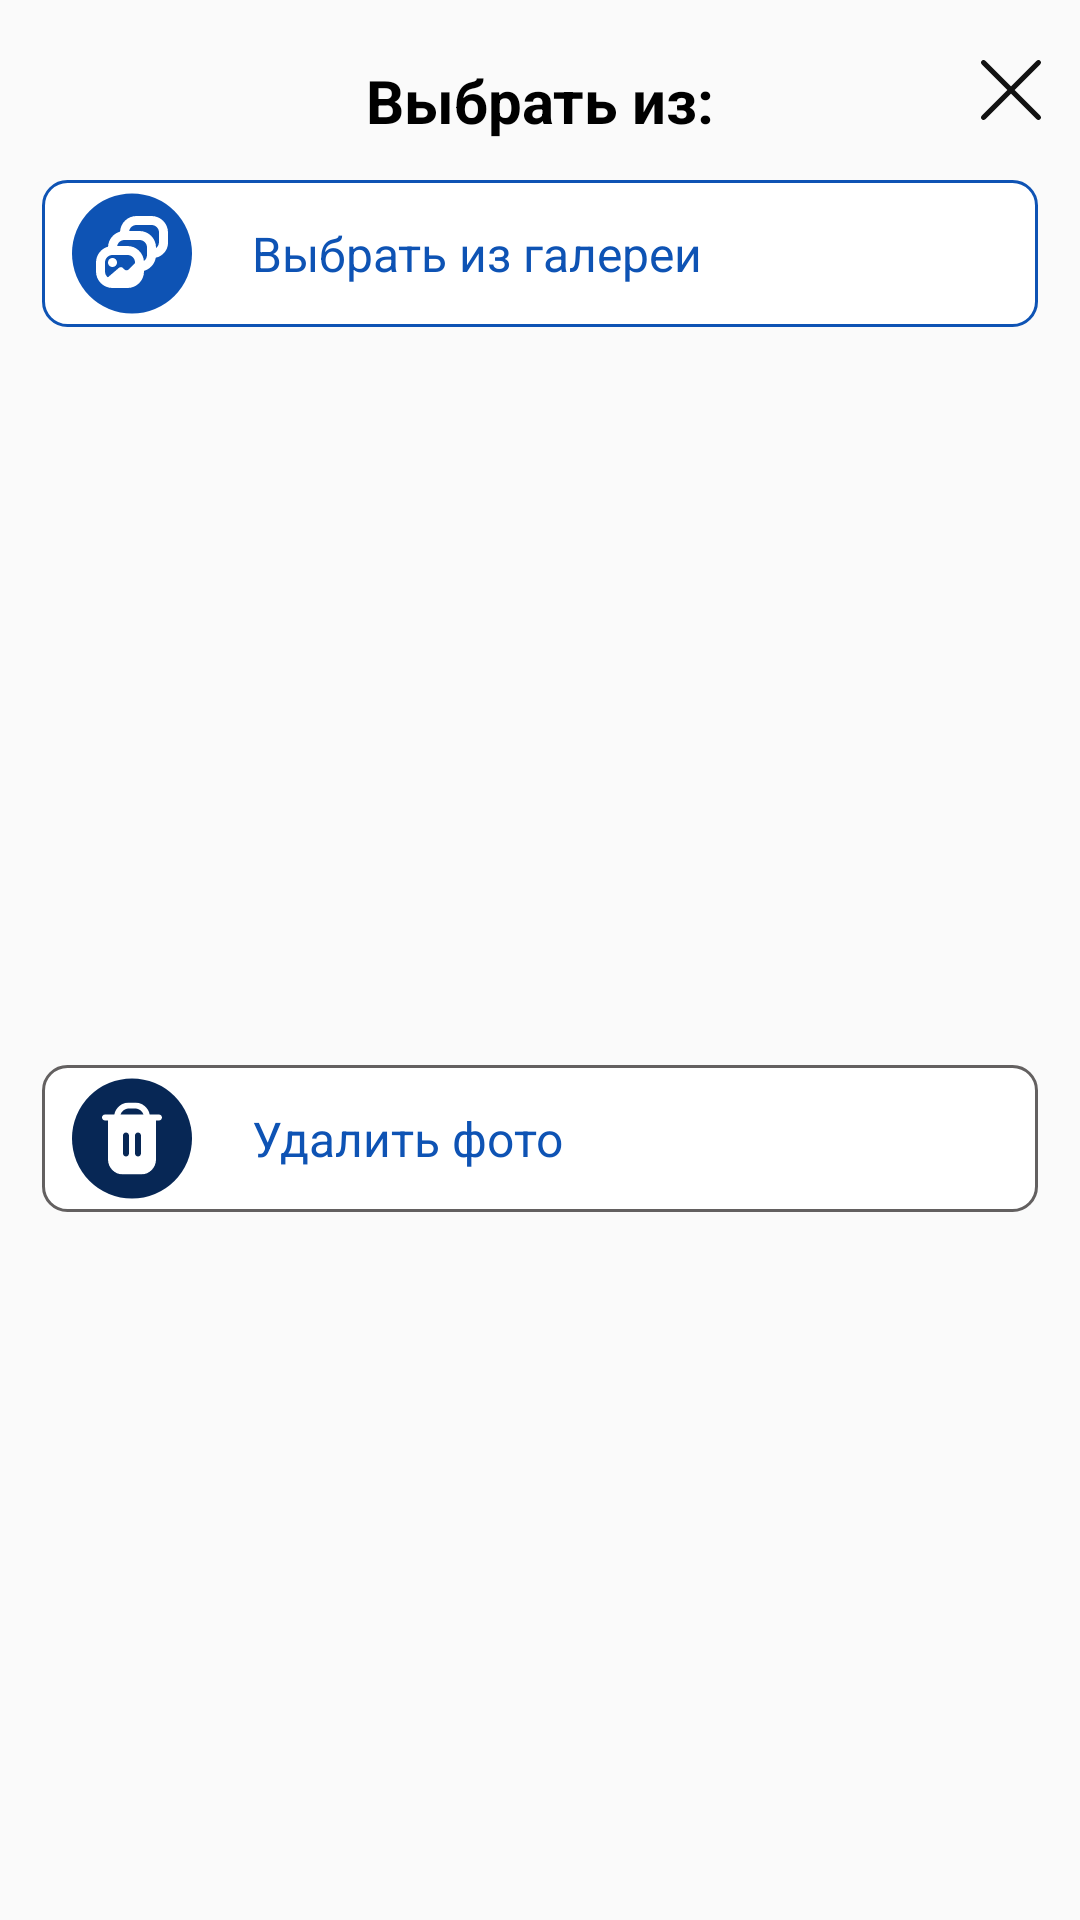

Icons on this 1080×1920 Android screen, each with its box as [x1, y1, x2, y2]:
close: [981, 60, 1041, 120]
